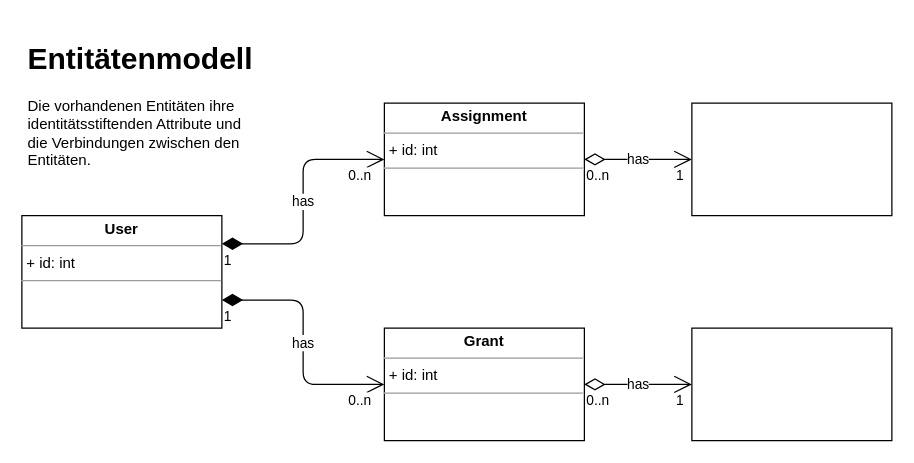
The diagram is 914 pixels wide and 463 high, and some of its shapes have lost their labels. The shapes that lost their labels are listed below. From the top down, each one's centre as x and y in pixels, then its label:
pixel 791 159: Chore + id: int
pixel 791 384: Reward + id: int
